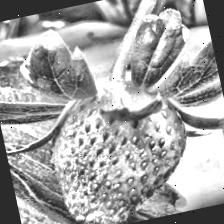Powdery Mildew Fruit: (42, 100, 155, 224)
